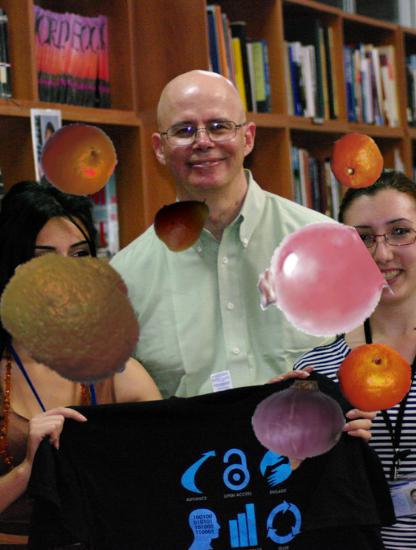Clementine: (334, 339, 412, 417), (326, 131, 385, 190)
Mandarine: (0, 240, 149, 389)
Onion: (251, 378, 346, 473)
Pear: (152, 190, 216, 254)
Redcurrant: (257, 223, 378, 344)
Tangelo: (40, 119, 118, 197)
